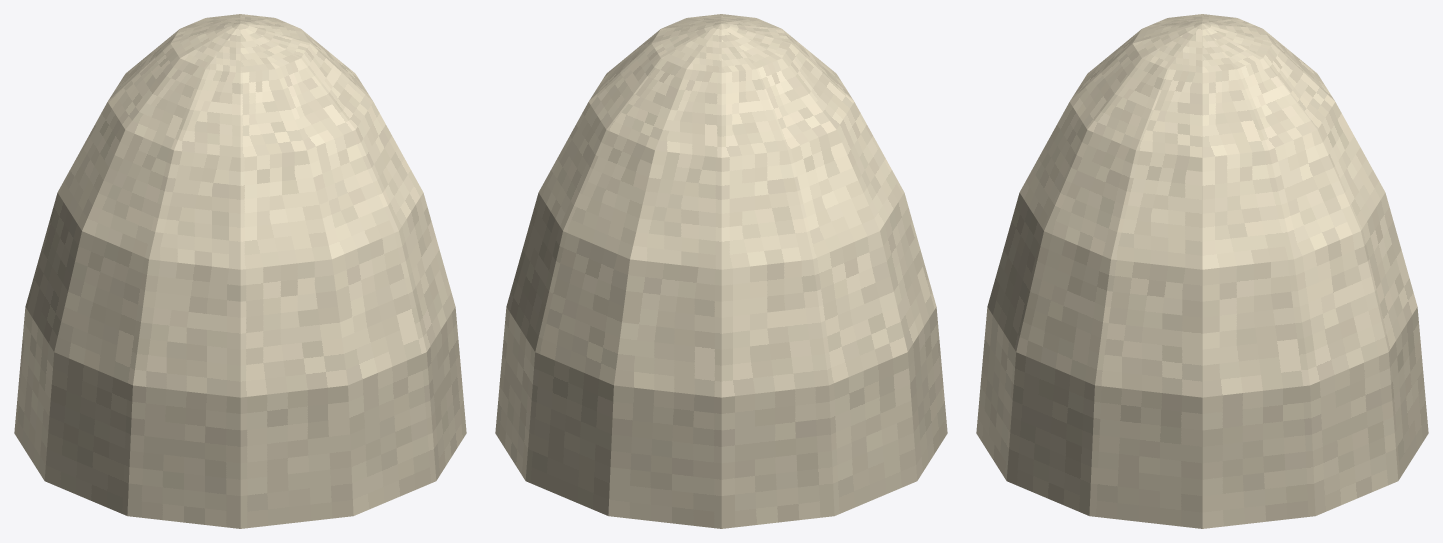
File: dome_plaster.glb
3 views of the same model, side by side, from view 1: azimuth 30°, elevation 25°; view 2: azimuth 150°, elevation 25°; view 3: azimuth 270°, elevation 25° (orthographic).
Visible parts, largest first — view 1: dome_plaster; view 2: dome_plaster; view 3: dome_plaster.
Boxes of the visible parts, x1,y1,x2,y2 form: dome_plaster: (14,14,466,528); dome_plaster: (495,14,947,528); dome_plaster: (976,14,1428,528).
Bounding box in the file's own units: 1 × 1 × 1.
1 material, 1 textured.
